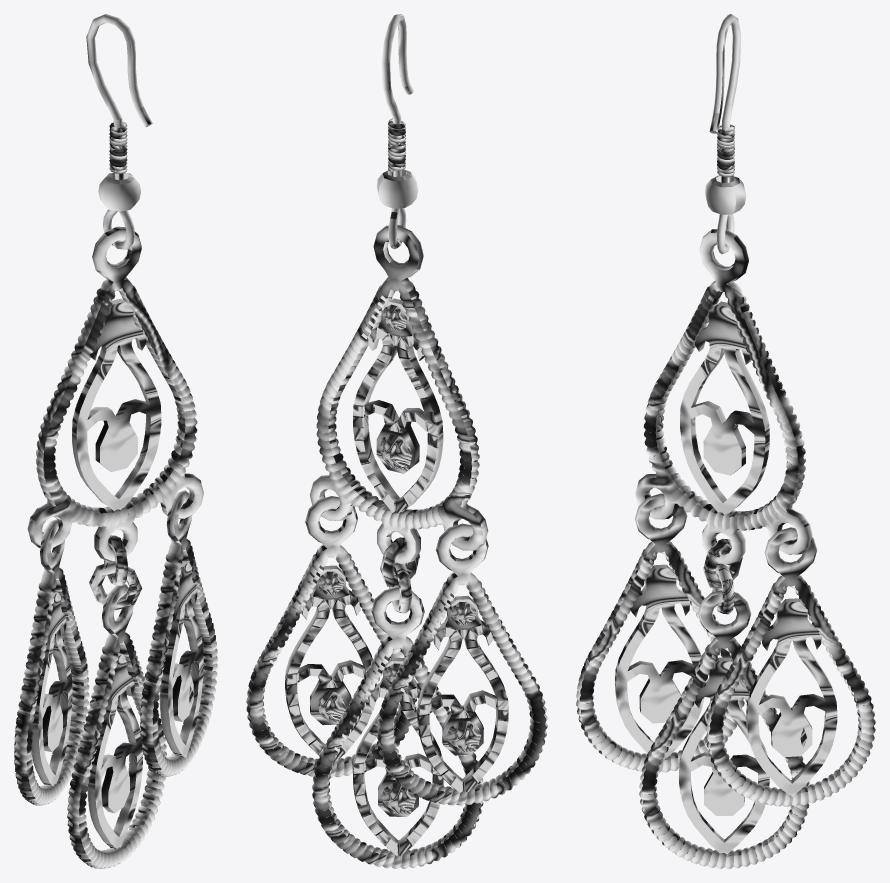
The picture shows the model from 3 angles, left to right: view 1: azimuth 30°, elevation 25°; view 2: azimuth 150°, elevation 25°; view 3: azimuth 330°, elevation 25°; orthographic projection.
Parts seen in each view (by area): view 1: 11763_earings_v1_L1.001; view 2: 11763_earings_v1_L1.001; view 3: 11763_earings_v1_L1.001.
Boxes of the visible parts, x1,y1,x2,y2 form: 11763_earings_v1_L1.001: (14, 14, 217, 868); 11763_earings_v1_L1.001: (246, 14, 547, 868); 11763_earings_v1_L1.001: (576, 14, 875, 868).
Size of the model in its own units: 0.0138 by 0.0446 by 0.00546.
Materials: 3 (3 with a texture image).
